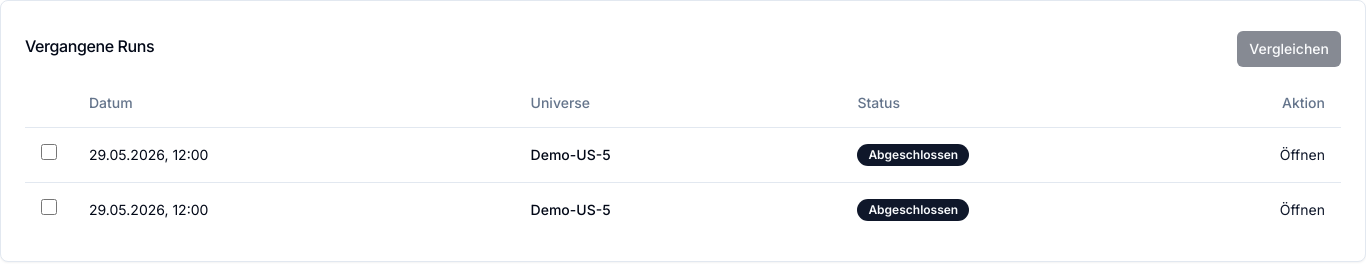
<RunHistoryList /> › compare button disabled until 2 selected
expect the button "Vergleichen" is disabled: met, box [1237,31,1341,67]
What coordinates should you click on to do the following:
click the checkbox named "Run r1 auswählen"
I would click on:
 (49, 152)
Its box is [41,144,57,160].
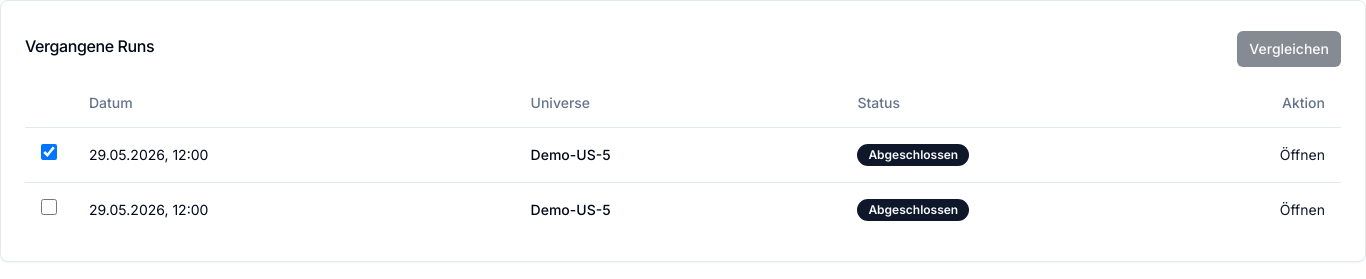
expect the button "Vergleichen" is disabled: met, box [1237,31,1341,67]
What coordinates should you click on to do the following:
click the checkbox named "Run r2 auswählen"
I would click on:
 (49, 207)
Its box is [41,199,57,215].
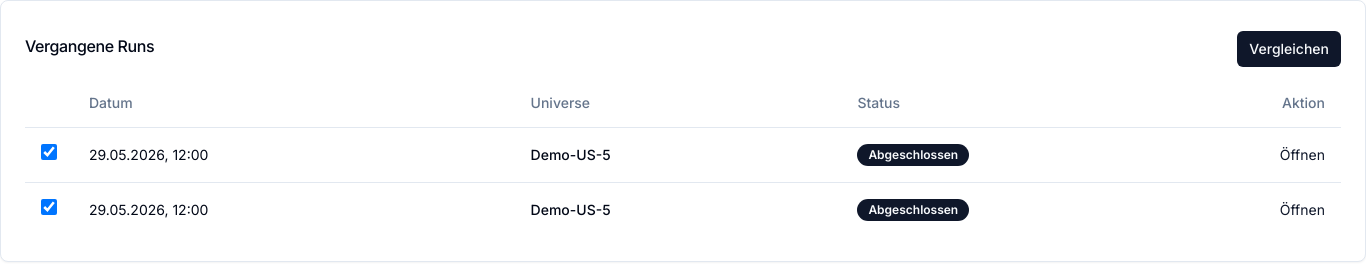
expect the button "Vergleichen" is enabled: met, box [1237,31,1341,67]
